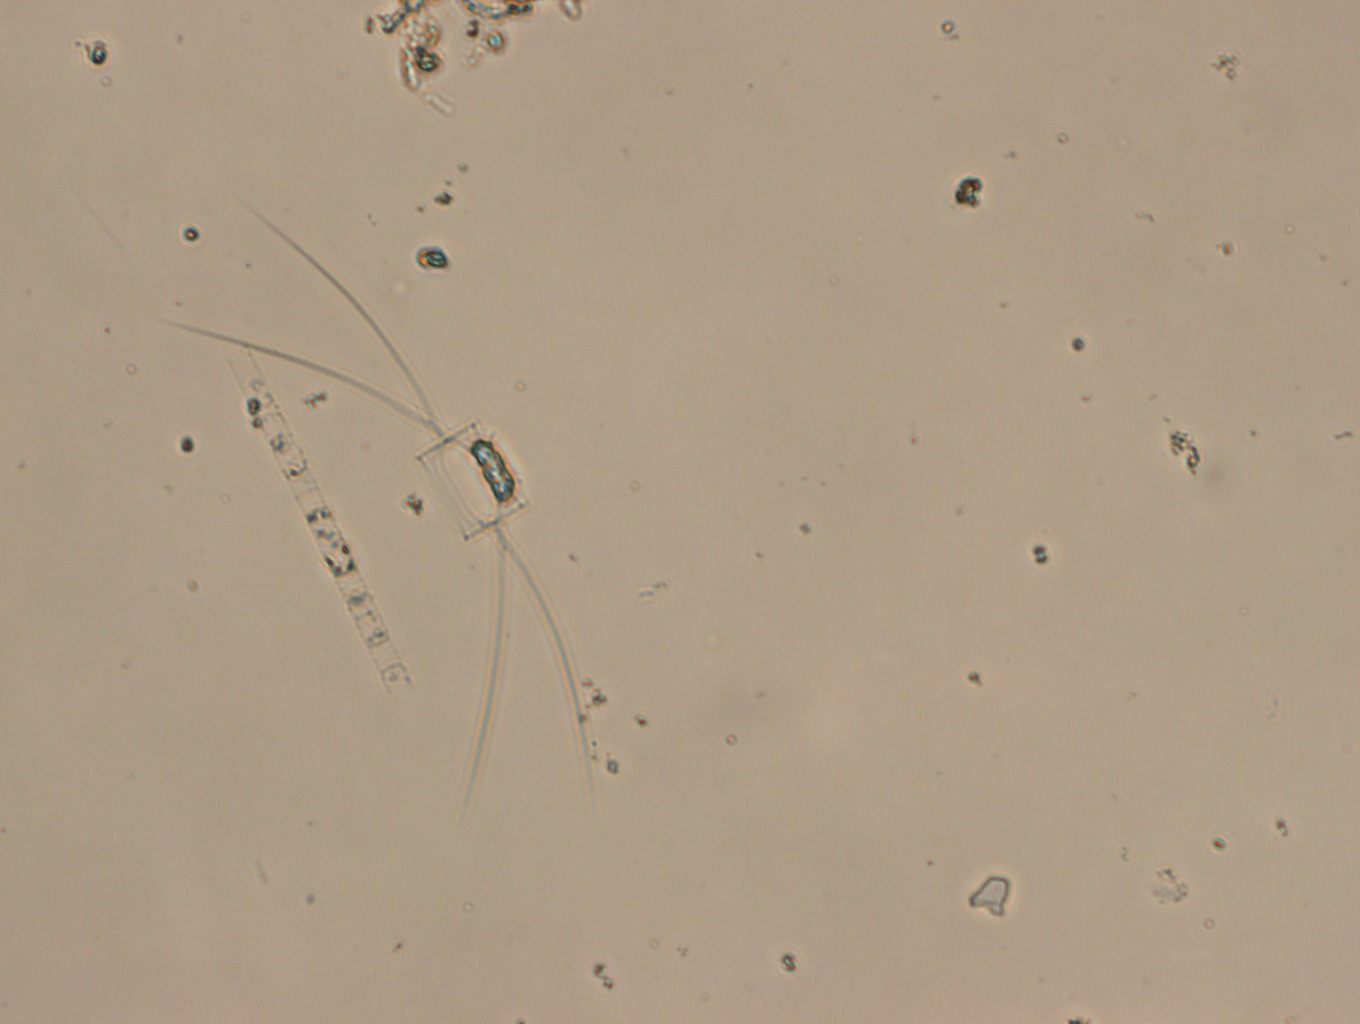skeletonema: (151, 184, 605, 830), (218, 336, 416, 702)
